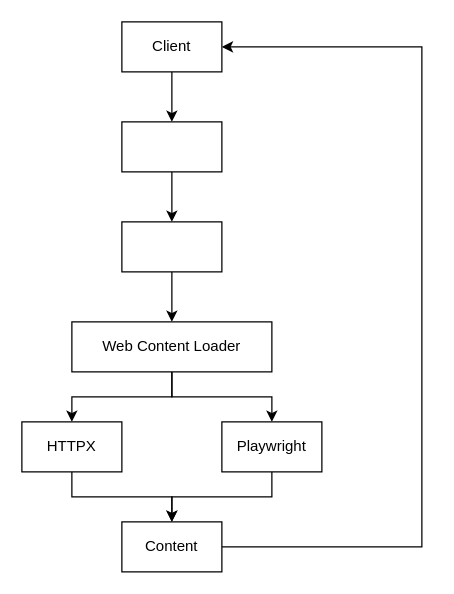
This 454x594 diagram has some shape labels left out. Each missing label, with the centre of its shape:
"Server" goes at point (171, 246).
"URL" goes at point (171, 146).
